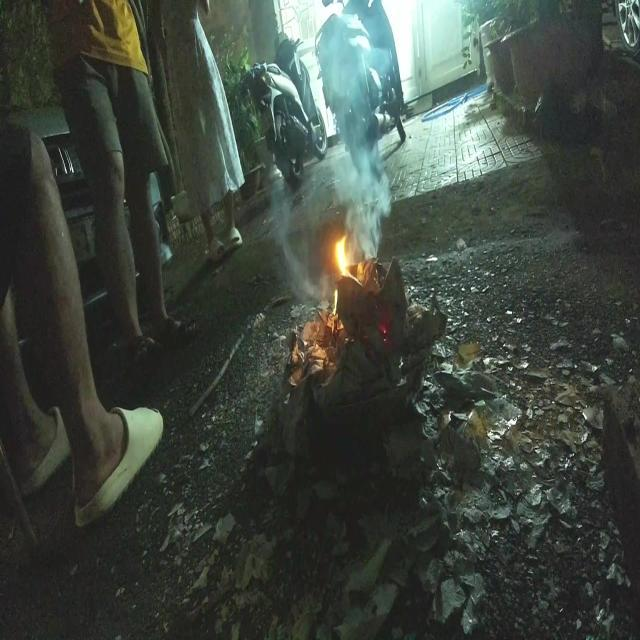Fire: (333, 234, 352, 278)
Smoke: (325, 46, 392, 262), (267, 174, 329, 304)
